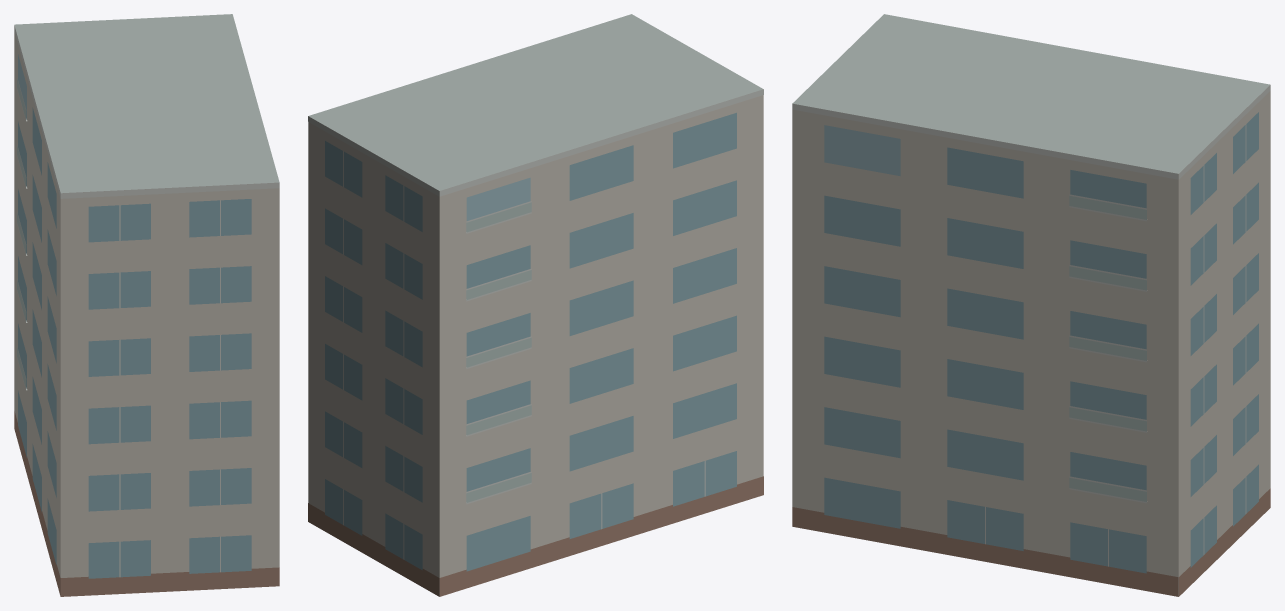
Rendered from survey-upis-32523690.glb.
3 renders of one model, left to right at view 1: azimuth 30°, elevation 25°; view 2: azimuth 150°, elevation 25°; view 3: azimuth 270°, elevation 25°, orthographic. The views are drawn at different scales.
Visible parts, largest first — view 1: survey-upis-32523690.tmp; view 2: survey-upis-32523690.tmp; view 3: survey-upis-32523690.tmp.
Part boxes in pixels (x1,y1,x2,y2): survey-upis-32523690.tmp: [14, 14, 279, 596]; survey-upis-32523690.tmp: [308, 14, 763, 596]; survey-upis-32523690.tmp: [792, 14, 1270, 596].
Size of the model in its own units: 14.03 by 17.3 by 17.74.
